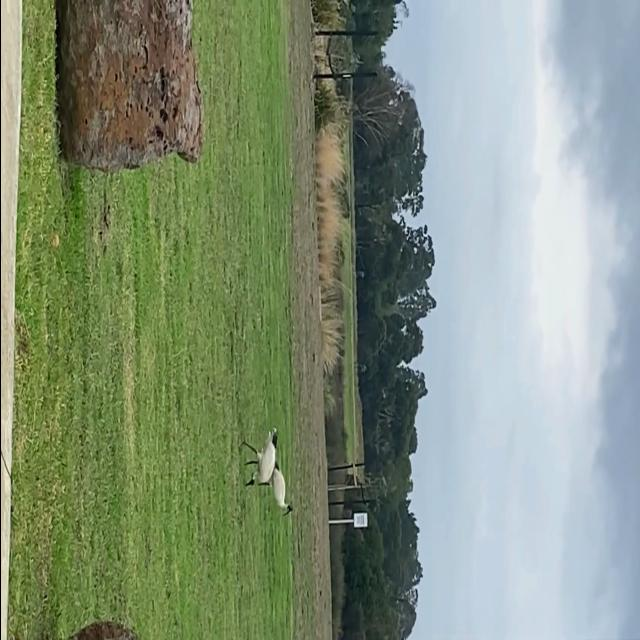Birds-Ibis: (238, 424, 282, 492), (268, 465, 296, 520)
